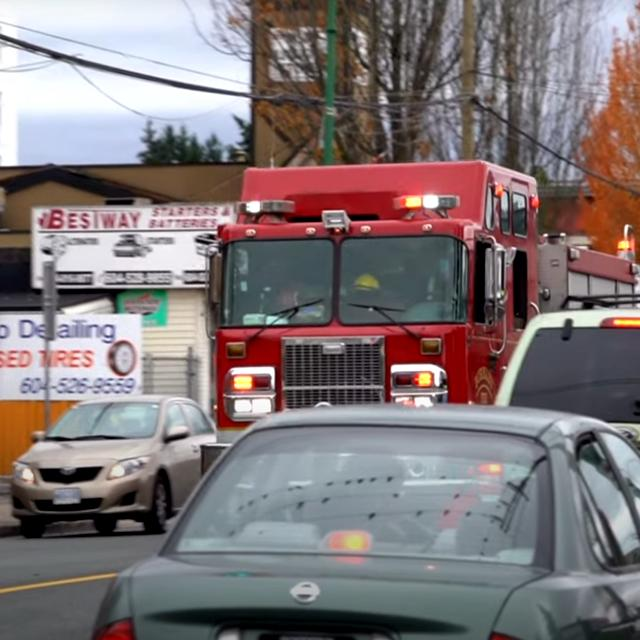emergency-vehicles: (183, 140, 640, 475)
